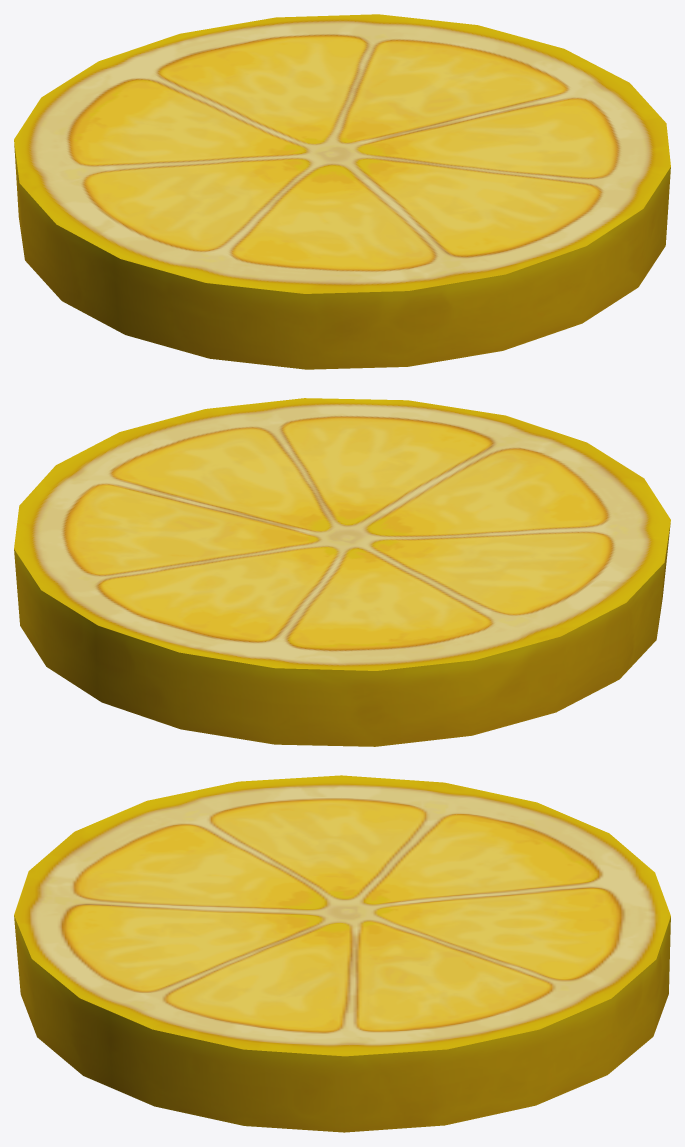
The model's file is SM_LemonCut.fbx.
3 renders of one model, top to bottom at view 1: azimuth 30°, elevation 25°; view 2: azimuth 150°, elevation 25°; view 3: azimuth 270°, elevation 25°, orthographic.
Parts seen in each view (by area): view 1: SM_LemonCut; view 2: SM_LemonCut; view 3: SM_LemonCut.
Part boxes in pixels (x1=…): SM_LemonCut: x1=14, y1=14, x2=670, y2=369; SM_LemonCut: x1=14, y1=398, x2=670, y2=746; SM_LemonCut: x1=14, y1=775, x2=670, y2=1132.
Bounding box in the file's own units: 10.95 × 1.44 × 10.82.
